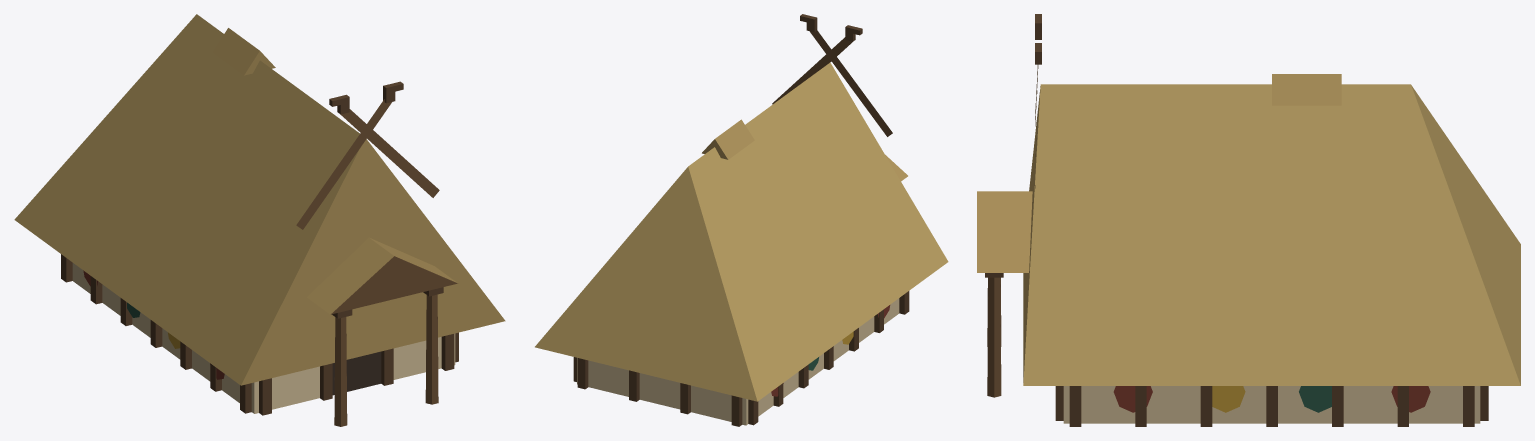
File: gaul_hall.glb
3 renders of one model, left to right at view 1: azimuth 30°, elevation 25°; view 2: azimuth 150°, elevation 25°; view 3: azimuth 270°, elevation 25°, orthographic. The views are drawn at different scales.
Visible parts, largest first — view 1: gaul_hall; view 2: gaul_hall; view 3: gaul_hall.
Part boxes in pixels (x1,y1,x2,y2): gaul_hall: [14, 14, 505, 426]; gaul_hall: [535, 14, 948, 426]; gaul_hall: [977, 14, 1520, 426].
Size of the model in its own units: 2.9 by 3.21 by 4.7.
